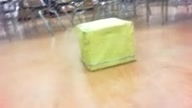cube: (76, 17, 134, 71)
